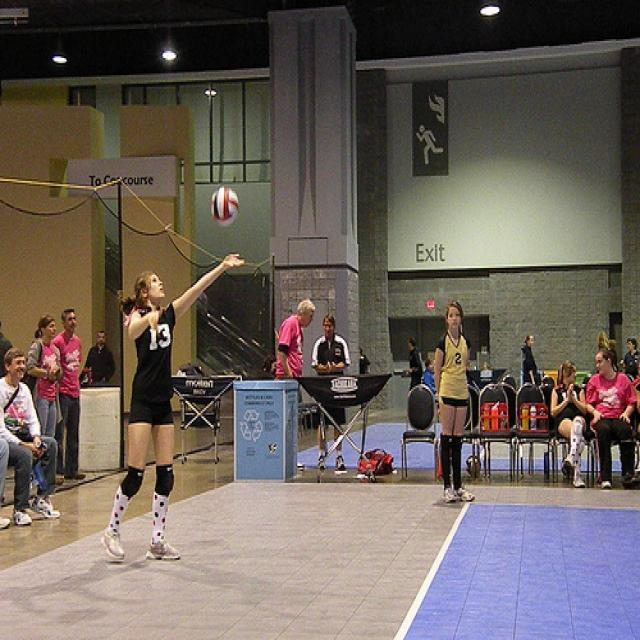volleyball: (210, 186, 240, 227)
